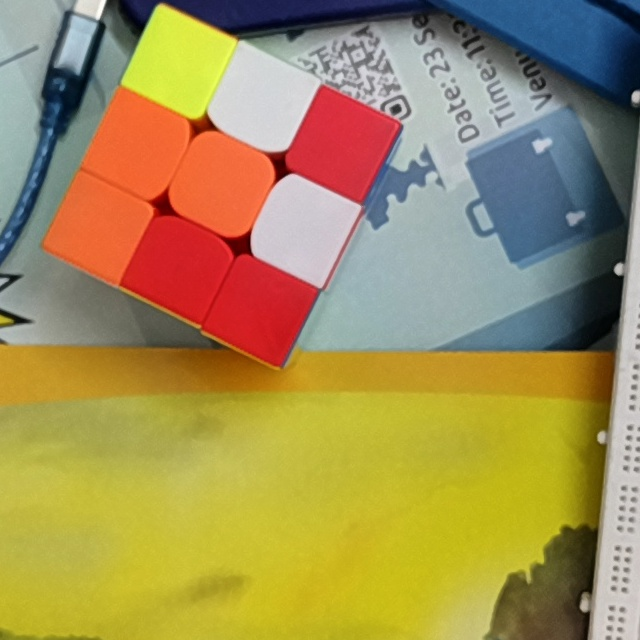tile: (226, 71, 292, 135), (187, 151, 253, 214), (270, 197, 337, 258), (308, 113, 372, 176), (144, 239, 209, 299), (66, 197, 127, 260), (228, 280, 293, 339), (108, 114, 171, 174), (149, 34, 210, 95)
